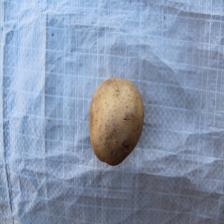Diseased-fungal potato: (86, 76, 145, 169)
